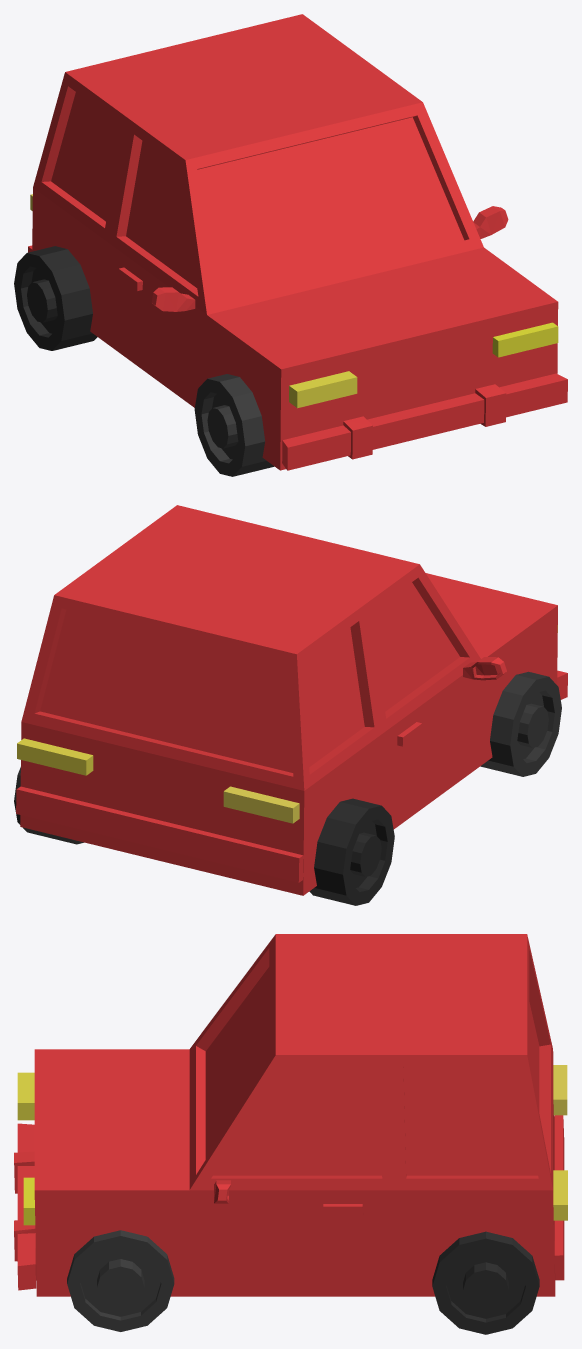
File: car_model.fbx
3 views of the same model, one above another, from view 1: azimuth 30°, elevation 25°; view 2: azimuth 150°, elevation 25°; view 3: azimuth 270°, elevation 25° (orthographic). The views are drawn at different scales.
Parts seen in each view (by area): view 1: Car; view 2: Car; view 3: Car.
Part boxes in pixels (x1,y1,x2,y2): Car: [14, 14, 567, 476]; Car: [14, 505, 567, 905]; Car: [14, 934, 567, 1334].
Size of the model in its own units: 255 by 174 by 332.
